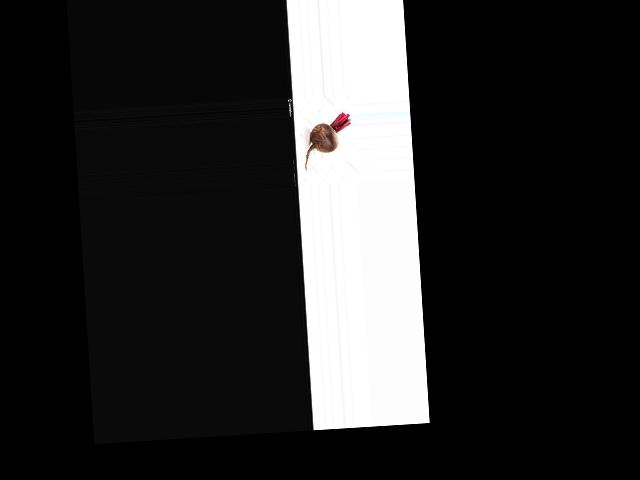beet: (301, 112, 353, 171)
